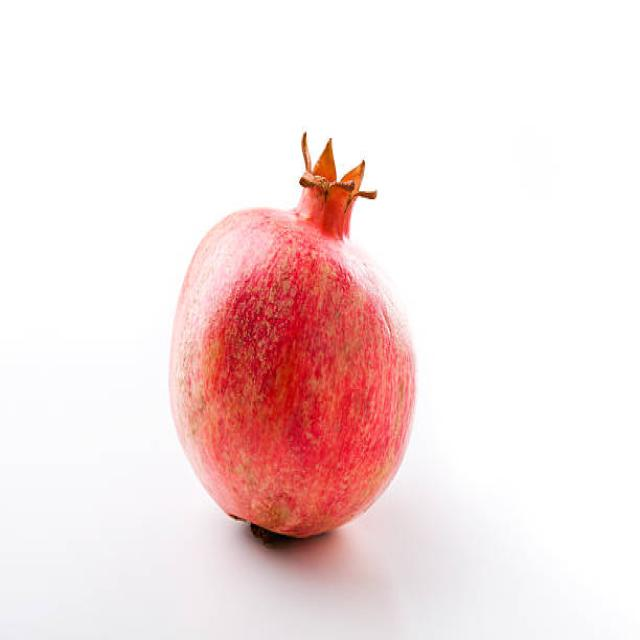Ripe: (166, 128, 420, 548)
